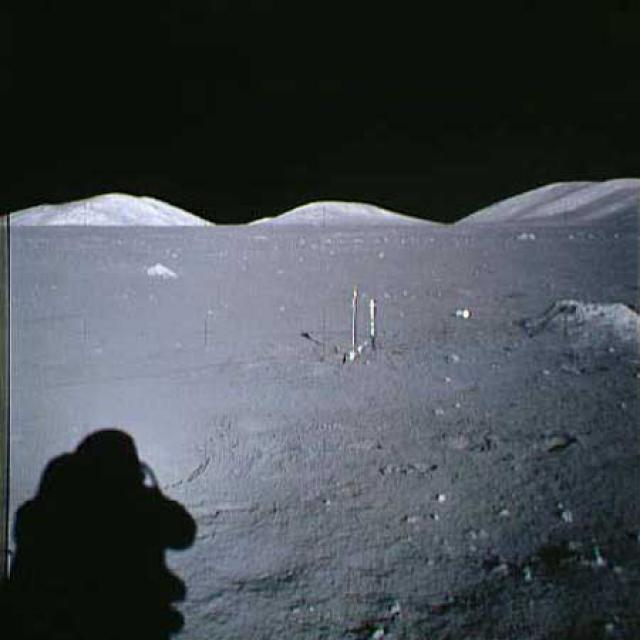artifact: (332, 287, 390, 360)
rock: (524, 284, 637, 348), (139, 258, 181, 282)
